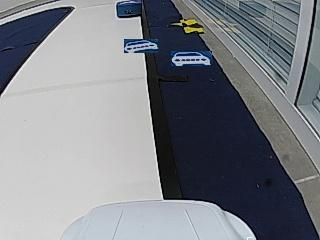prop: (117, 1, 140, 18)
